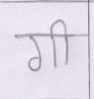i_matra: (53, 19, 74, 66)
